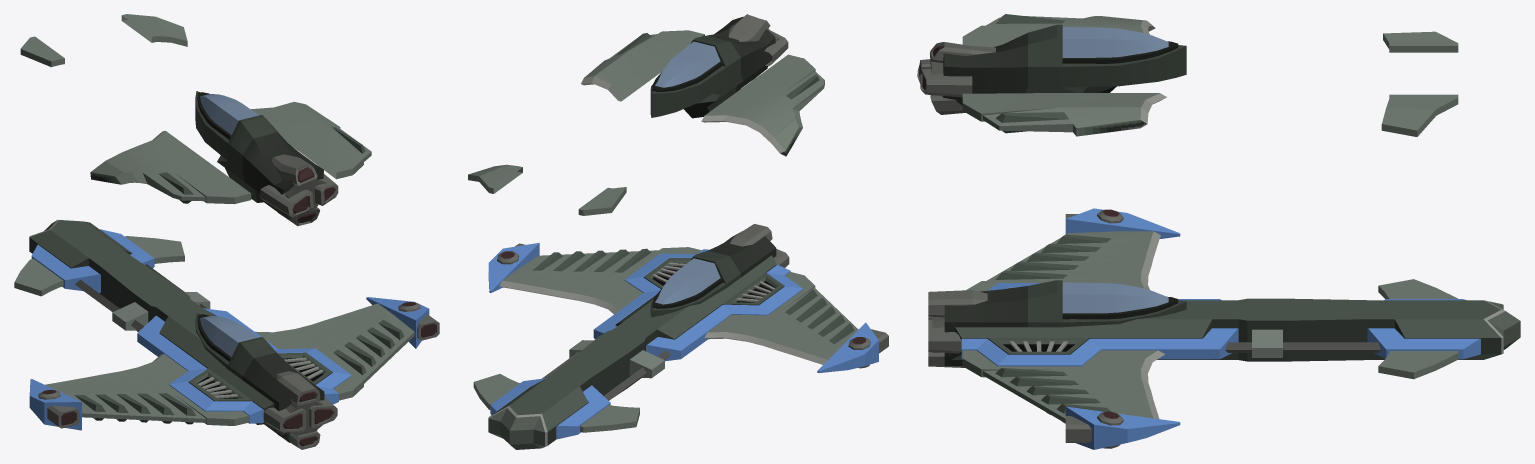
File: Fighterv1.fbx
The picture shows the model from 3 angles, left to right: view 1: azimuth 30°, elevation 25°; view 2: azimuth 150°, elevation 25°; view 3: azimuth 270°, elevation 25°; orthographic projection. The views are drawn at different scales.
Parts seen in each view (by area): view 1: Fighter Chassis, Fighter Wings.L, Fighter Core_Broken, Fighter Wings.R, Fighter Core, Fighter Wings.L_Broken, Fighter Wings.R_Broken; view 2: Fighter Chassis, Fighter Wings.L, Fighter Wings.R, Fighter Core_Broken, Fighter Wings.L_Broken, Fighter Core, Fighter Wings.R_Broken; view 3: Fighter Chassis, Fighter Core_Broken, Fighter Wings.R, Fighter Core, Fighter Wings.L, Fighter Wings.R_Broken, Fighter Wings.L_Broken.
Boxes of the visible parts, left/top/right/bottom form: Fighter Chassis: left=29, top=220, right=351, bottom=434; Fighter Wings.L: left=14, top=258, right=248, bottom=430; Fighter Core_Broken: left=195, top=91, right=338, bottom=226; Fighter Wings.R: left=125, top=236, right=439, bottom=400; Fighter Core: left=195, top=313, right=337, bottom=449; Fighter Wings.L_Broken: left=20, top=36, right=251, bottom=204; Fighter Wings.R_Broken: left=121, top=14, right=371, bottom=179; Fighter Chassis: left=488, top=249, right=802, bottom=449; Fighter Wings.L: left=580, top=272, right=888, bottom=432; Fighter Wings.R: left=473, top=242, right=701, bottom=409; Fighter Core_Broken: left=650, top=14, right=788, bottom=118; Fighter Wings.L_Broken: left=578, top=54, right=824, bottom=215; Fighter Core: left=650, top=224, right=789, bottom=317; Fighter Wings.R_Broken: left=468, top=30, right=704, bottom=193; Fighter Chassis: left=950, top=283, right=1520, bottom=366; Fighter Core_Broken: left=917, top=24, right=1186, bottom=114; Fighter Wings.R: left=962, top=350, right=1458, bottom=449; Fighter Core: left=928, top=280, right=1186, bottom=367; Fighter Wings.L: left=966, top=208, right=1457, bottom=299; Fighter Wings.R_Broken: left=962, top=93, right=1458, bottom=136; Fighter Wings.L_Broken: left=962, top=14, right=1458, bottom=52.
Bounding box in the file's own units: 45.39 × 53.53 × 32.73.
